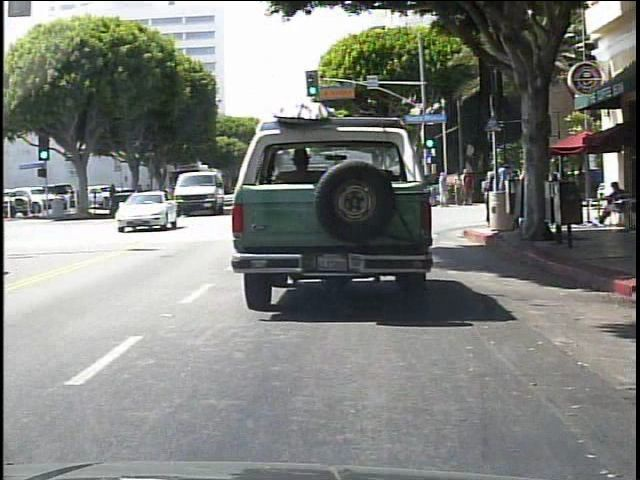person: (595, 178, 630, 227), (496, 160, 513, 227), (519, 162, 537, 220), (484, 163, 499, 225), (491, 165, 508, 219), (535, 163, 549, 206), (465, 166, 476, 207), (439, 173, 450, 208), (455, 172, 466, 206), (430, 179, 440, 209)
